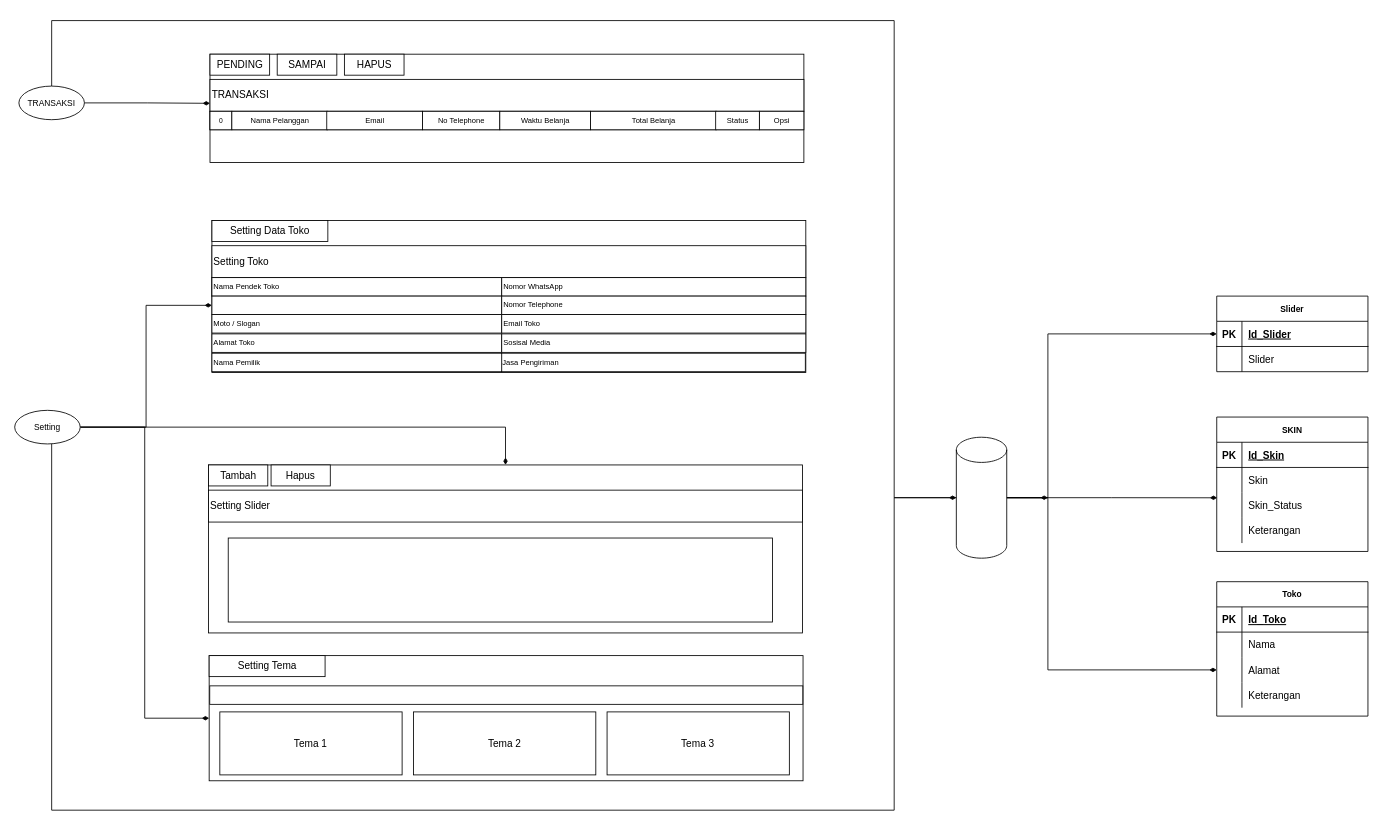
Image size: 1383x832. Some labels were removed from this diagram. The box of each missing label's shape, as (x1, y1, x2, y2) in pixels:
DB.Anet: (956, 436, 1007, 558)
Klik Gambar Untuk Mengaktifkan Tema: (209, 685, 803, 704)
Nama Panjang Tooko: (211, 295, 502, 315)
View Slider: (227, 537, 773, 622)
